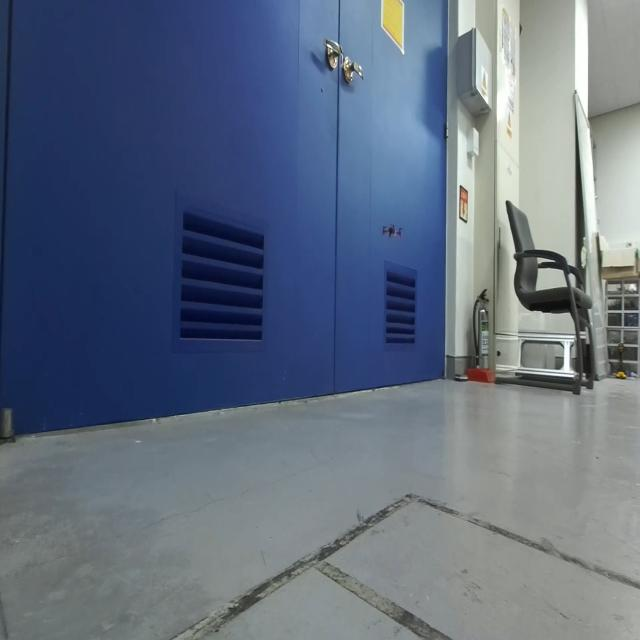crazyflie: (378, 218, 406, 246)
